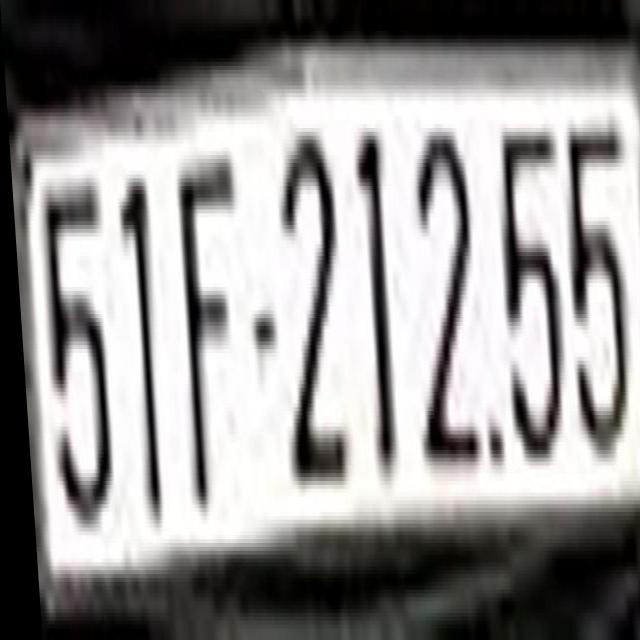1: (343, 124, 400, 500), (113, 175, 167, 528)
2: (394, 112, 479, 485), (270, 116, 346, 492)
5: (557, 109, 640, 478), (487, 109, 569, 474), (38, 167, 111, 536)
F: (170, 163, 248, 512)
